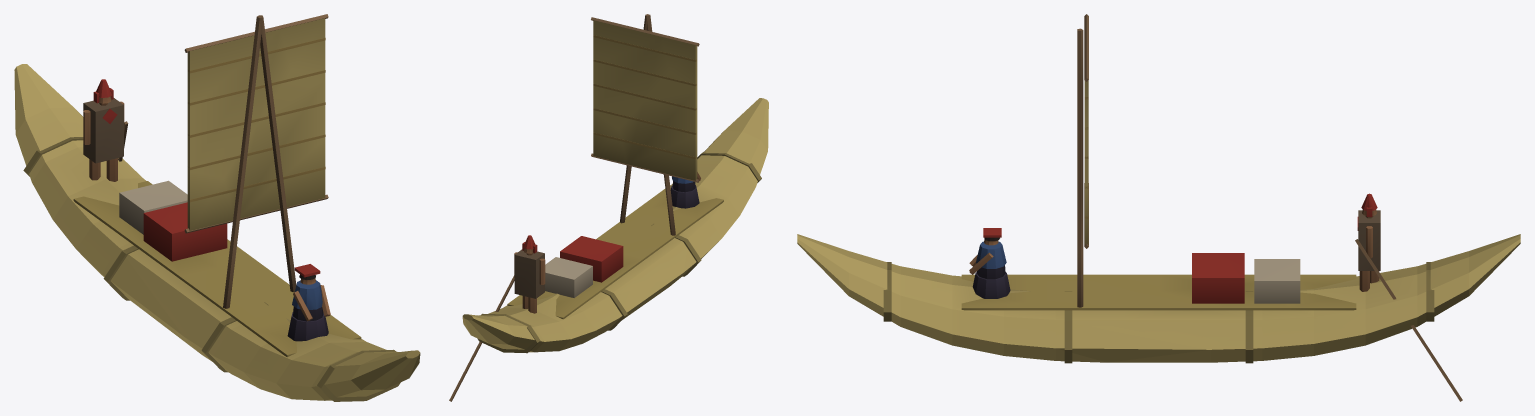
Rendered from boat.glb.
The picture shows the model from 3 angles, left to right: view 1: azimuth 30°, elevation 25°; view 2: azimuth 150°, elevation 25°; view 3: azimuth 270°, elevation 25°; orthographic projection. The views are drawn at different scales.
Visible parts, largest first — view 1: base; view 2: base; view 3: base.
Part boxes in pixels (left/top/right/bottom): base: left=14, top=14, right=420, bottom=401; base: left=449, top=14, right=768, bottom=401; base: left=797, top=14, right=1520, bottom=401.
Bounding box in the file's own units: 2.3 × 5.82 × 11.
